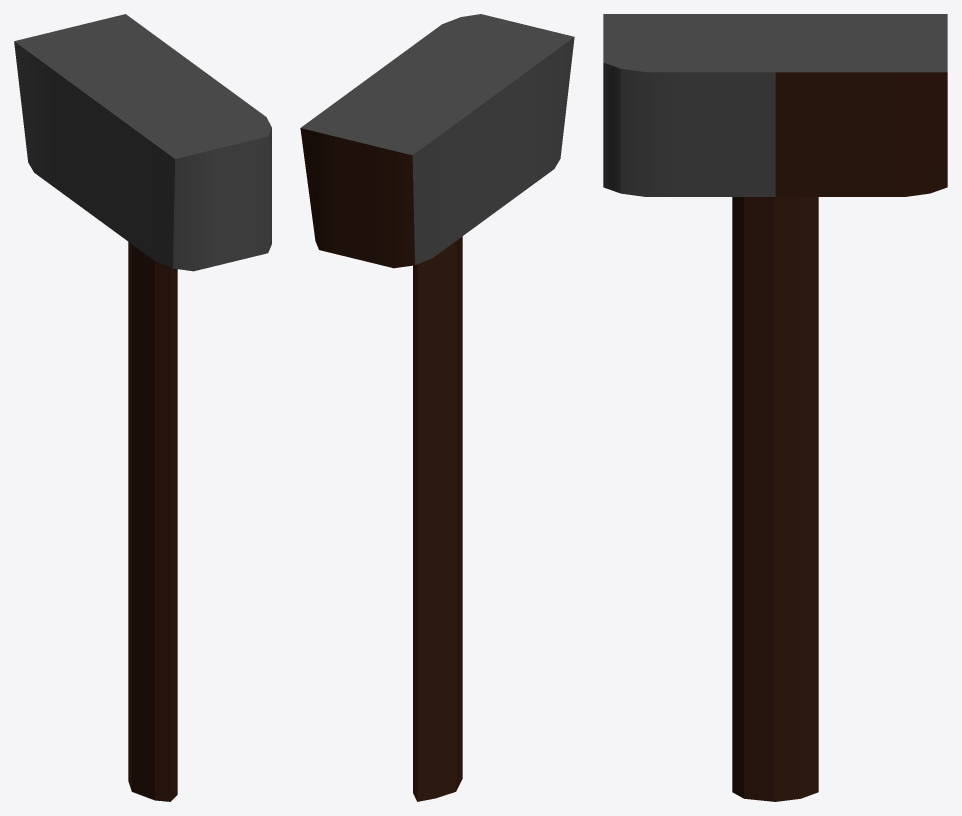
File: Hammer.FBX
3 views of the same model, side by side, from view 1: azimuth 30°, elevation 25°; view 2: azimuth 150°, elevation 25°; view 3: azimuth 270°, elevation 25° (orthographic). The views are drawn at different scales.
Parts seen in each view (by area): view 1: Box001; view 2: Box001; view 3: Box001.
Part boxes in pixels (left/top/right/bottom): Box001: left=14, top=14, right=271, bottom=801; Box001: left=300, top=14, right=574, bottom=801; Box001: left=603, top=14, right=947, bottom=801.
Size of the model in its own units: 0.2 by 1.2 by 0.5.
